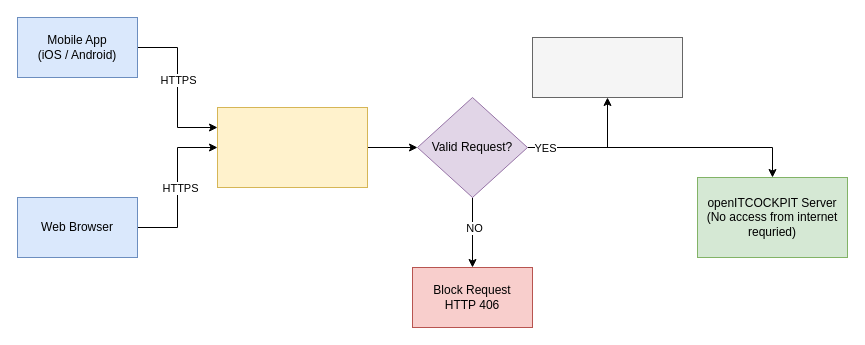
Image size: 865x345. Some labels were removed from this diagram. Here are the shapes that lost their labels. From the top down, the centre of each, then its label:
At pixel 607 67: "Serve Web App".
At pixel 292 147: "Web Application Firewall (WAF)".
